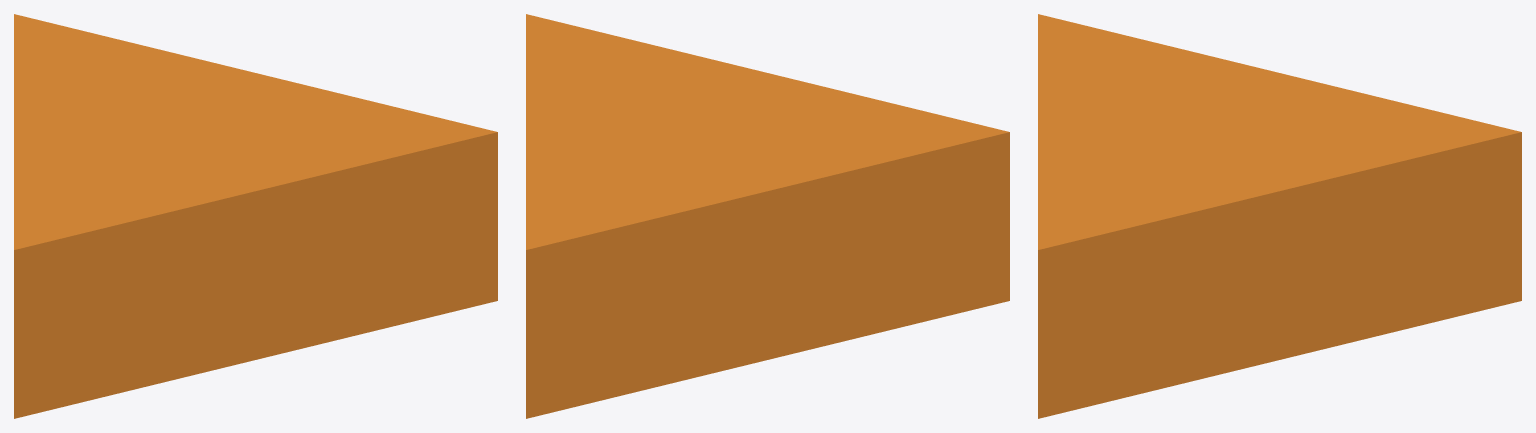
The model's file is triangle_orange.dae.
3 renders of one model, left to right at view 1: azimuth 30°, elevation 25°; view 2: azimuth 150°, elevation 25°; view 3: azimuth 270°, elevation 25°, orthographic.
Parts seen in each view (by area): view 1: Triangle equilateral orange; view 2: Triangle equilateral orange; view 3: Triangle equilateral orange.
Boxes of the visible parts, x1,y1,x2,y2 form: Triangle equilateral orange: [14, 14, 497, 418]; Triangle equilateral orange: [526, 14, 1009, 418]; Triangle equilateral orange: [1038, 14, 1521, 418].
Bounding box in the file's own units: 0.045 × 0.039 × 0.015.
